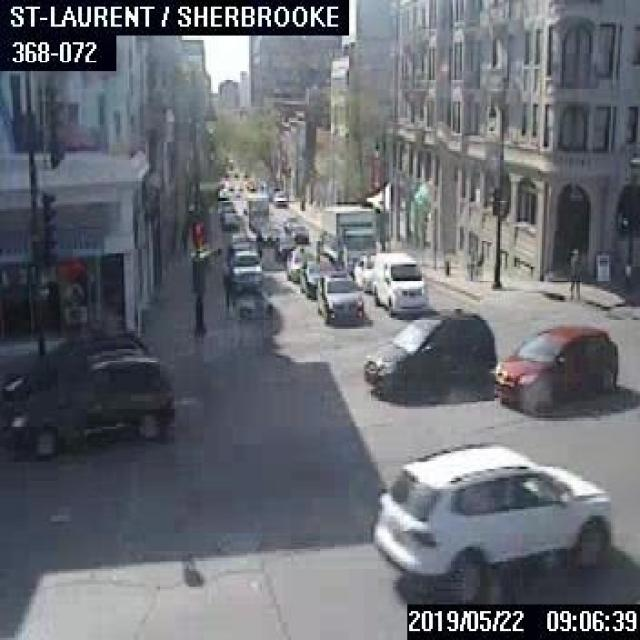pedestrian: (565, 245, 580, 302), (220, 259, 231, 308), (473, 245, 482, 280), (466, 244, 473, 280)
vehicle: (373, 443, 613, 598), (0, 329, 173, 458), (362, 310, 495, 400), (495, 326, 620, 406), (322, 202, 377, 267), (373, 251, 427, 316), (316, 269, 362, 323), (300, 255, 334, 297), (229, 248, 261, 291), (351, 249, 376, 292), (285, 244, 314, 280), (227, 231, 261, 260), (242, 193, 268, 230), (275, 233, 293, 257), (289, 219, 307, 241), (219, 211, 235, 229), (272, 188, 286, 205), (216, 179, 229, 197), (218, 198, 232, 212)
